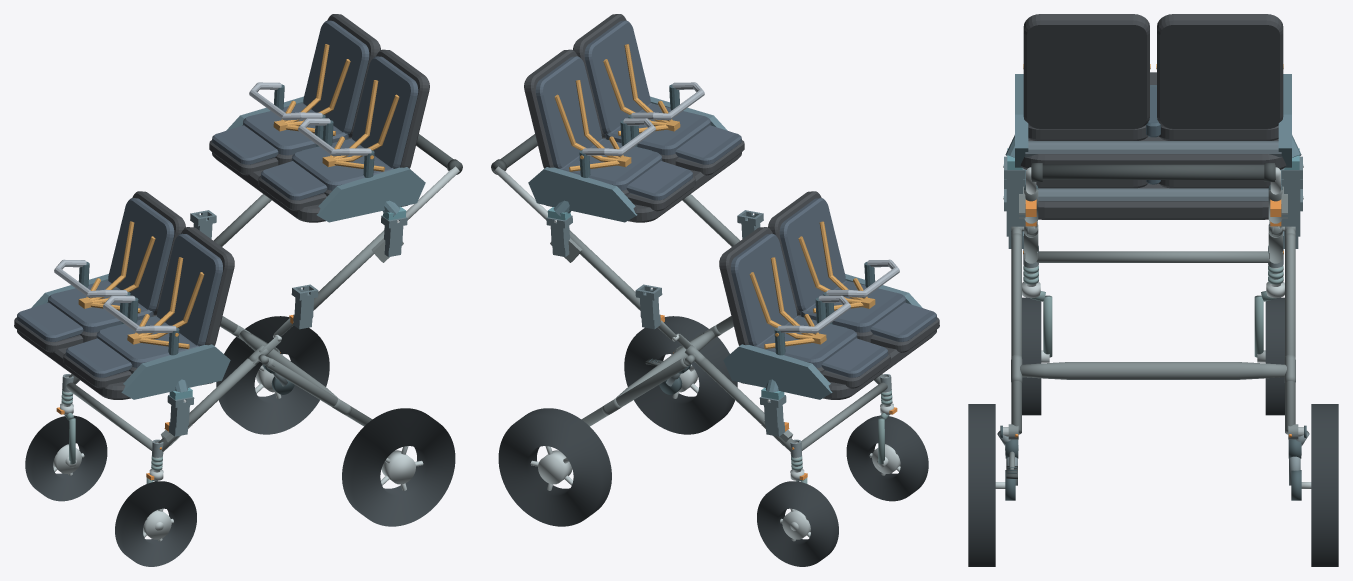
Rendered from D26_w650_state1_wheel_L.glb.
The picture shows the model from 3 angles, left to right: view 1: azimuth 30°, elevation 25°; view 2: azimuth 150°, elevation 25°; view 3: azimuth 270°, elevation 25°; orthographic projection. The views are drawn at different scales.
Parts seen in each view (by area): view 1: D26_Upper, D26_Lower, RL_tire.008, RR_tire.008, FL_tire.008, FR_tire.008, V46_rear_leg_-1.009, main_lower_-1.009, main_upper_-1.009, front_fixed_round_tube.008, Universal_Cabin_Receiver_M_-1, RL_sealed_hub.008 (+6 smaller); view 2: D26_Upper, D26_Lower, RR_tire.008, RL_tire.008, FR_tire.008, FL_tire.008, V46_rear_leg_1.009, main_lower_1.009, main_upper_1.009, front_fixed_round_tube.008, Universal_Cabin_Receiver_M_1, RR_sealed_hub.008 (+6 smaller); view 3: D26_Upper, D26_Lower, V46_rearbar.009, RL_tire.008, RR_tire.008, round_handle.008, front_fixed_round_tube.008, FL_tire.008, FR_tire.008, V46_rear_leg_1.009, V46_rear_leg_-1.009, Universal_Cabin_Receiver_H_1 (+4 smaller).
Boxes of the visible parts, left/top/right/bottom form: D26_Upper: left=209, top=14, right=429, bottom=222; D26_Lower: left=14, top=191, right=234, bottom=399; RL_tire.008: left=342, top=408, right=455, bottom=526; RR_tire.008: left=216, top=316, right=329, bottom=434; FL_tire.008: left=115, top=481, right=196, bottom=566; FR_tire.008: left=25, top=415, right=107, bottom=501; V46_rear_leg_-1.009: left=266, top=358, right=372, bottom=426; main_lower_-1.009: left=158, top=358, right=258, bottom=451; main_upper_-1.009: left=293, top=230, right=384, bottom=315; front_fixed_round_tube.008: left=66, top=382, right=152, bottom=450; Universal_Cabin_Receiver_M_-1: left=291, top=284, right=318, bottom=329; RL_sealed_hub.008: left=381, top=450, right=415, bottom=484; D26_Upper: left=524, top=14, right=744, bottom=222; D26_Lower: left=719, top=191, right=939, bottom=399; RR_tire.008: left=498, top=408, right=611, bottom=526; RL_tire.008: left=624, top=316, right=737, bottom=434; FR_tire.008: left=757, top=481, right=838, bottom=566; FL_tire.008: left=846, top=415, right=928, bottom=501; V46_rear_leg_1.009: left=581, top=358, right=687, bottom=426; main_lower_1.009: left=695, top=358, right=795, bottom=451; main_upper_1.009: left=569, top=230, right=660, bottom=315; front_fixed_round_tube.008: left=801, top=382, right=887, bottom=450; Universal_Cabin_Receiver_M_1: left=635, top=284, right=662, bottom=329; RR_sealed_hub.008: left=538, top=450, right=572, bottom=484; D26_Upper: left=1015, top=14, right=1291, bottom=169; D26_Lower: left=1025, top=170, right=1281, bottom=219; V46_rearbar.009: left=1020, top=362, right=1286, bottom=379; RL_tire.008: left=968, top=404, right=995, bottom=566; RR_tire.008: left=1311, top=404, right=1338, bottom=566; round_handle.008: left=1031, top=164, right=1275, bottom=179; front_fixed_round_tube.008: left=1036, top=251, right=1270, bottom=262; FL_tire.008: left=1022, top=297, right=1041, bottom=415; FR_tire.008: left=1265, top=297, right=1284, bottom=415; V46_rear_leg_1.009: left=1285, top=233, right=1295, bottom=434; V46_rear_leg_-1.009: left=1011, top=233, right=1021, bottom=434; Universal_Cabin_Receiver_H_1: left=1281, top=156, right=1302, bottom=217.
Size of the model in its own units: 1.27 by 1.4 by 0.8171.
